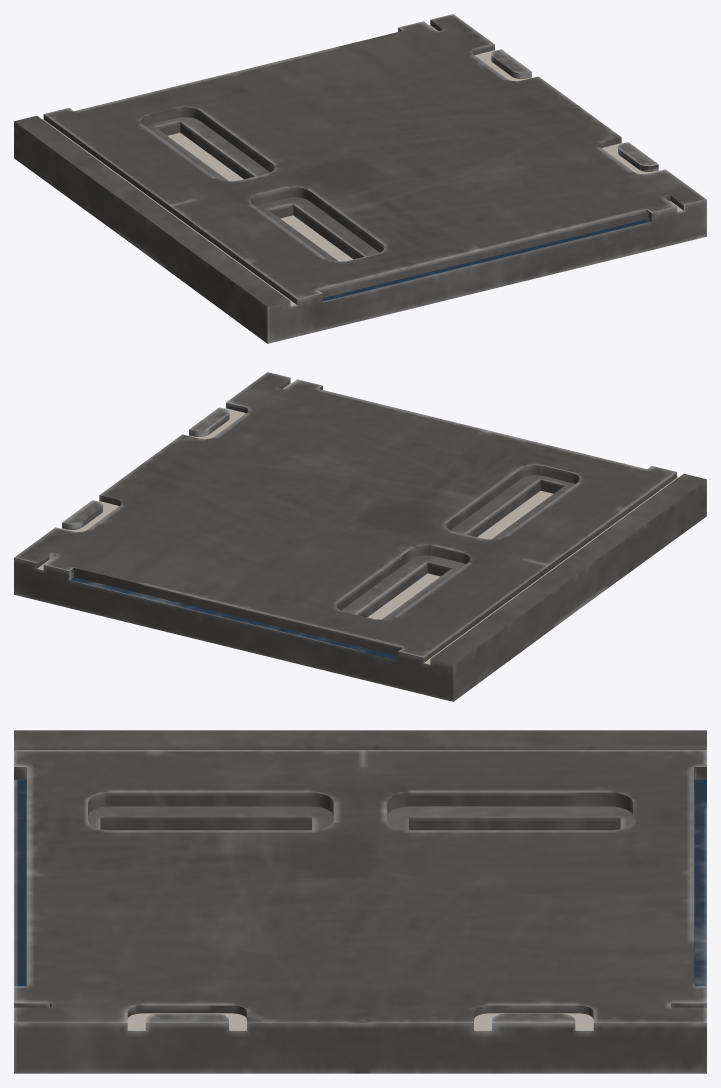
File: FUT0510033.fbx
The picture shows the model from 3 angles, top to bottom: view 1: azimuth 30°, elevation 25°; view 2: azimuth 150°, elevation 25°; view 3: azimuth 270°, elevation 25°; orthographic projection. The views are drawn at different scales.
Parts seen in each view (by area): view 1: smFUT0510033; view 2: smFUT0510033; view 3: smFUT0510033.
Boxes of the visible parts, x1,y1,x2,y2 form: smFUT0510033: (14, 14, 706, 343); smFUT0510033: (14, 372, 706, 701); smFUT0510033: (14, 730, 706, 1073).
Bounding box in the file's own units: 168 × 13.53 × 168.
Materials: 1 (1 with a texture image).
